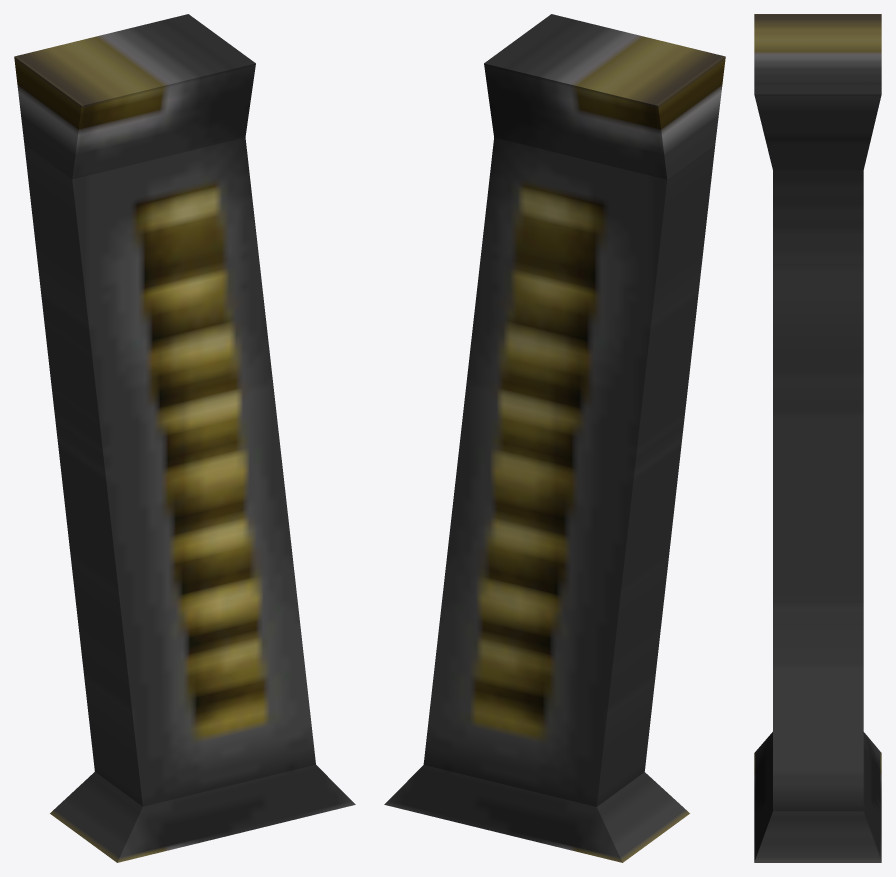
The model's file is pistol-clip-lod0.glb.
3 views of the same model, side by side, from view 1: azimuth 30°, elevation 25°; view 2: azimuth 150°, elevation 25°; view 3: azimuth 270°, elevation 25° (orthographic). The views are drawn at different scales.
Visible parts, largest first — view 1: gclip; view 2: gclip; view 3: gclip.
Boxes of the visible parts, <box> form: gclip: <box>14,14,355,862</box>; gclip: <box>384,14,725,862</box>; gclip: <box>754,14,881,862</box>.
Size of the model in its own units: 0.2358 by 0.6294 by 0.1006.
1 material, 1 textured.
